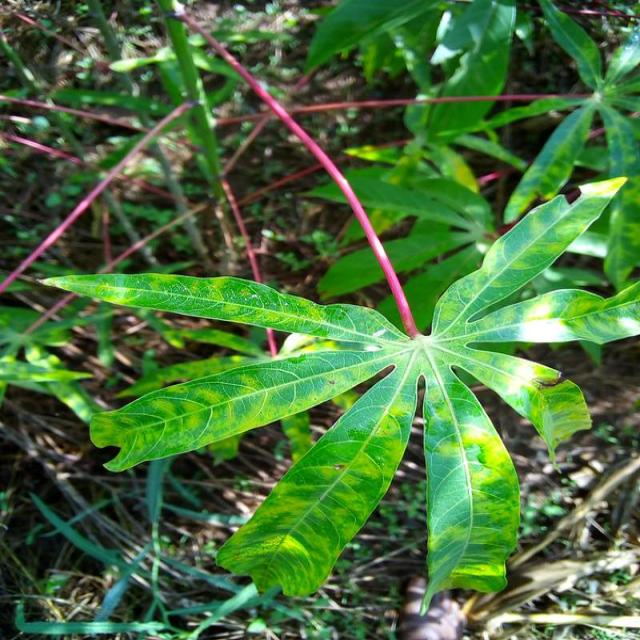cassava leaf: (35, 6, 638, 614), (214, 354, 418, 599)
